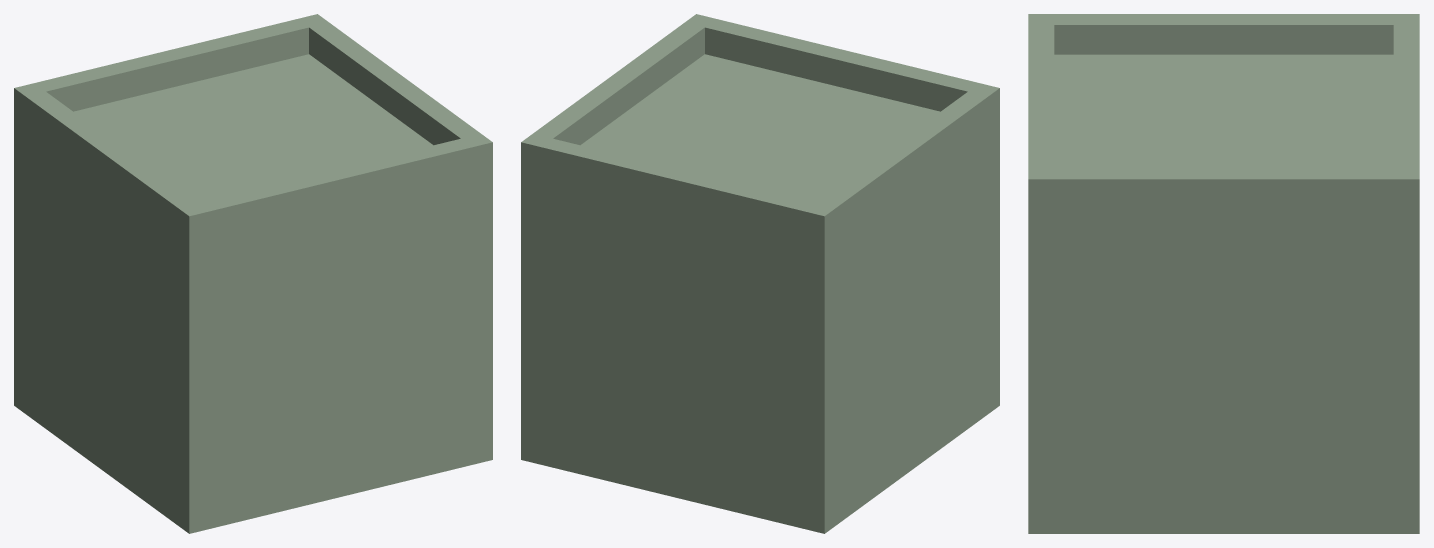
File: dirt_box_02.fbx
The picture shows the model from 3 angles, left to right: view 1: azimuth 30°, elevation 25°; view 2: azimuth 150°, elevation 25°; view 3: azimuth 270°, elevation 25°; orthographic projection. The views are drawn at different scales.
Parts seen in each view (by area): view 1: dirt_box_02; view 2: dirt_box_02; view 3: dirt_box_02.
Part boxes in pixels (x1=…): dirt_box_02: x1=14, y1=14, x2=492, y2=533; dirt_box_02: x1=521, y1=14, x2=999, y2=533; dirt_box_02: x1=1028, y1=14, x2=1419, y2=533.
Size of the model in its own units: 1.91 by 1.91 by 1.91.
